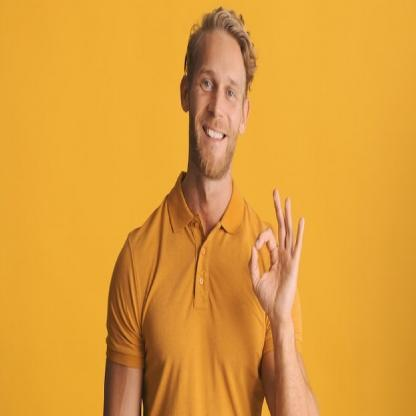ok: (246, 185, 306, 328)
